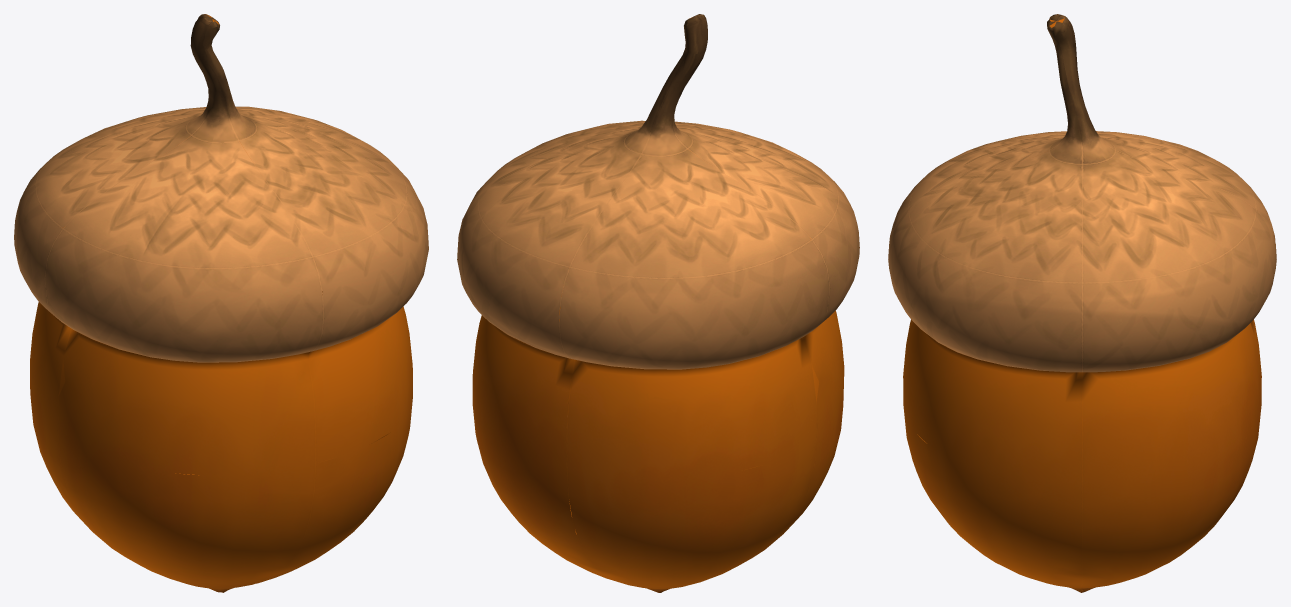
The model's file is bellota_buena.obj.
3 views of the same model, side by side, from view 1: azimuth 30°, elevation 25°; view 2: azimuth 150°, elevation 25°; view 3: azimuth 270°, elevation 25° (orthographic). The views are drawn at different scales.
Parts seen in each view (by area): view 1: bellota_buena; view 2: bellota_buena; view 3: bellota_buena.
Boxes of the visible parts, <box> form: bellota_buena: <box>14,14,428,592</box>; bellota_buena: <box>457,14,859,592</box>; bellota_buena: <box>888,14,1276,592</box>.
Bounding box in the file's own units: 1.67 × 2.67 × 1.67.
1 material, 1 textured.
